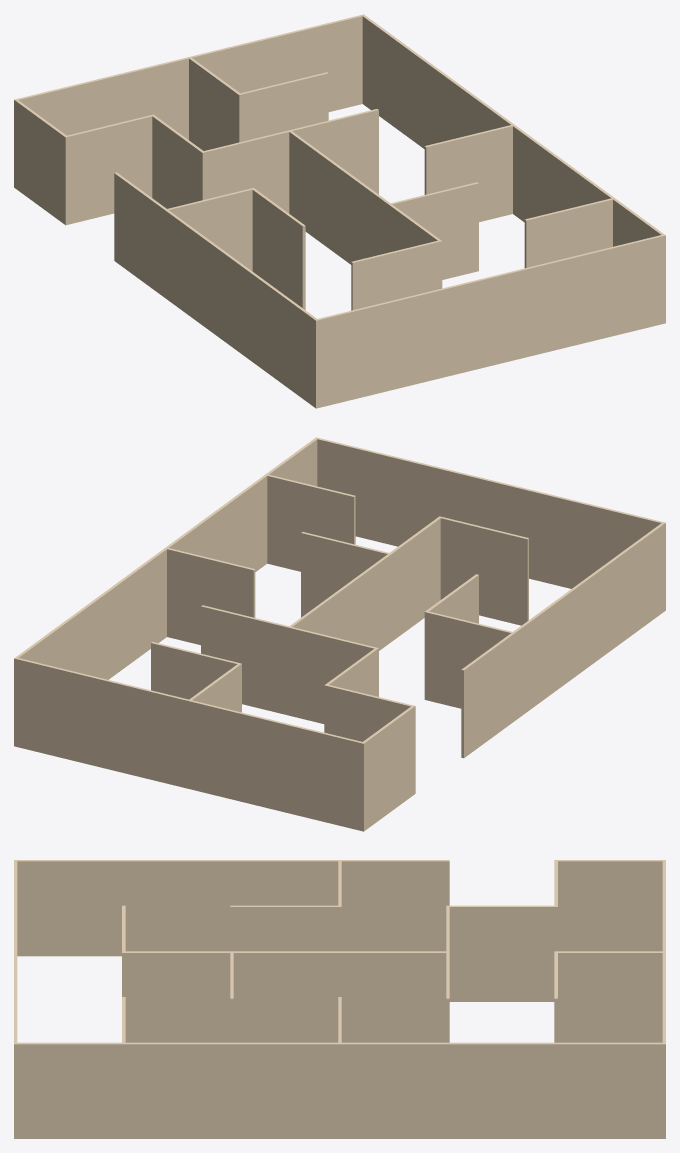
3 renders of one model, top to bottom at view 1: azimuth 30°, elevation 25°; view 2: azimuth 150°, elevation 25°; view 3: azimuth 270°, elevation 25°, orthographic. The views are drawn at different scales.
Visible parts, largest first — view 1: group_0; view 2: group_0; view 3: group_0.
Boxes of the visible parts, x1=… form: group_0: x1=14, y1=14, x2=665, y2=408; group_0: x1=14, y1=437, x2=665, y2=831; group_0: x1=14, y1=860, x2=665, y2=1138.
Bounding box in the file's own units: 1.25 × 1.87 × 0.3.
